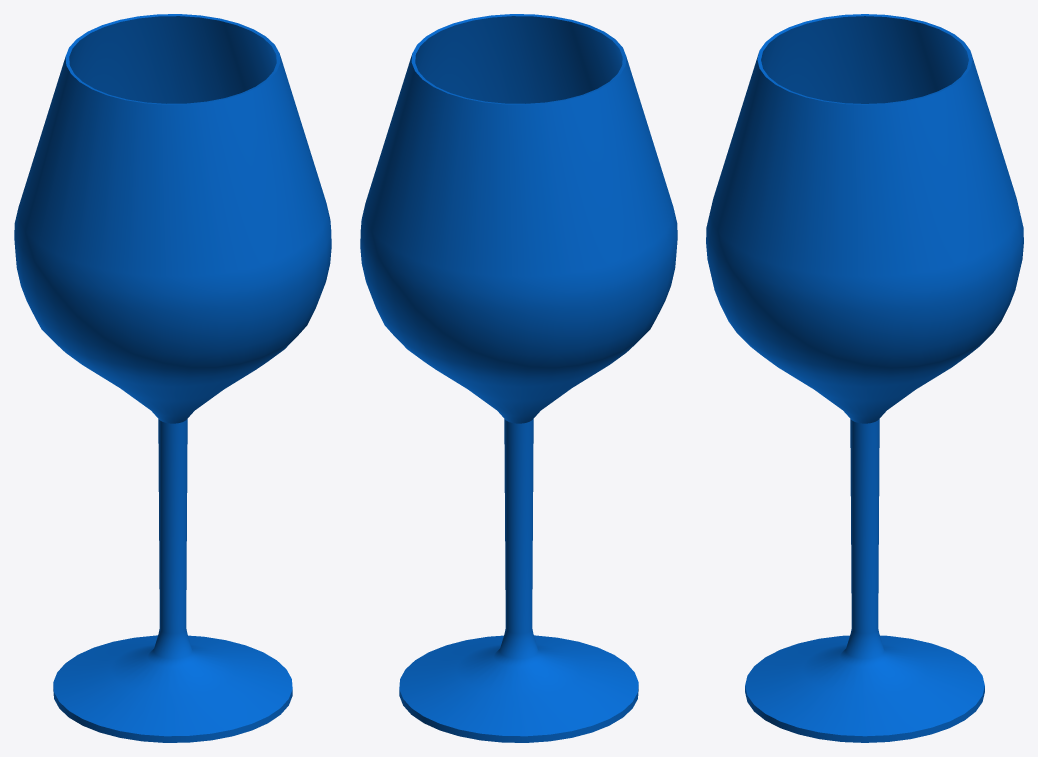
The model's file is WineGlassMerged.fbx.
3 renders of one model, left to right at view 1: azimuth 30°, elevation 25°; view 2: azimuth 150°, elevation 25°; view 3: azimuth 270°, elevation 25°, orthographic.
Visible parts, largest first — view 1: WineGlassMerged; view 2: WineGlassMerged; view 3: WineGlassMerged.
Part boxes in pixels (<box>): WineGlassMerged: <box>14,14,331,742</box>; WineGlassMerged: <box>360,14,677,742</box>; WineGlassMerged: <box>706,14,1023,742</box>.
Bounding box in the file's own units: 0.1478 × 0.3247 × 0.1478.
